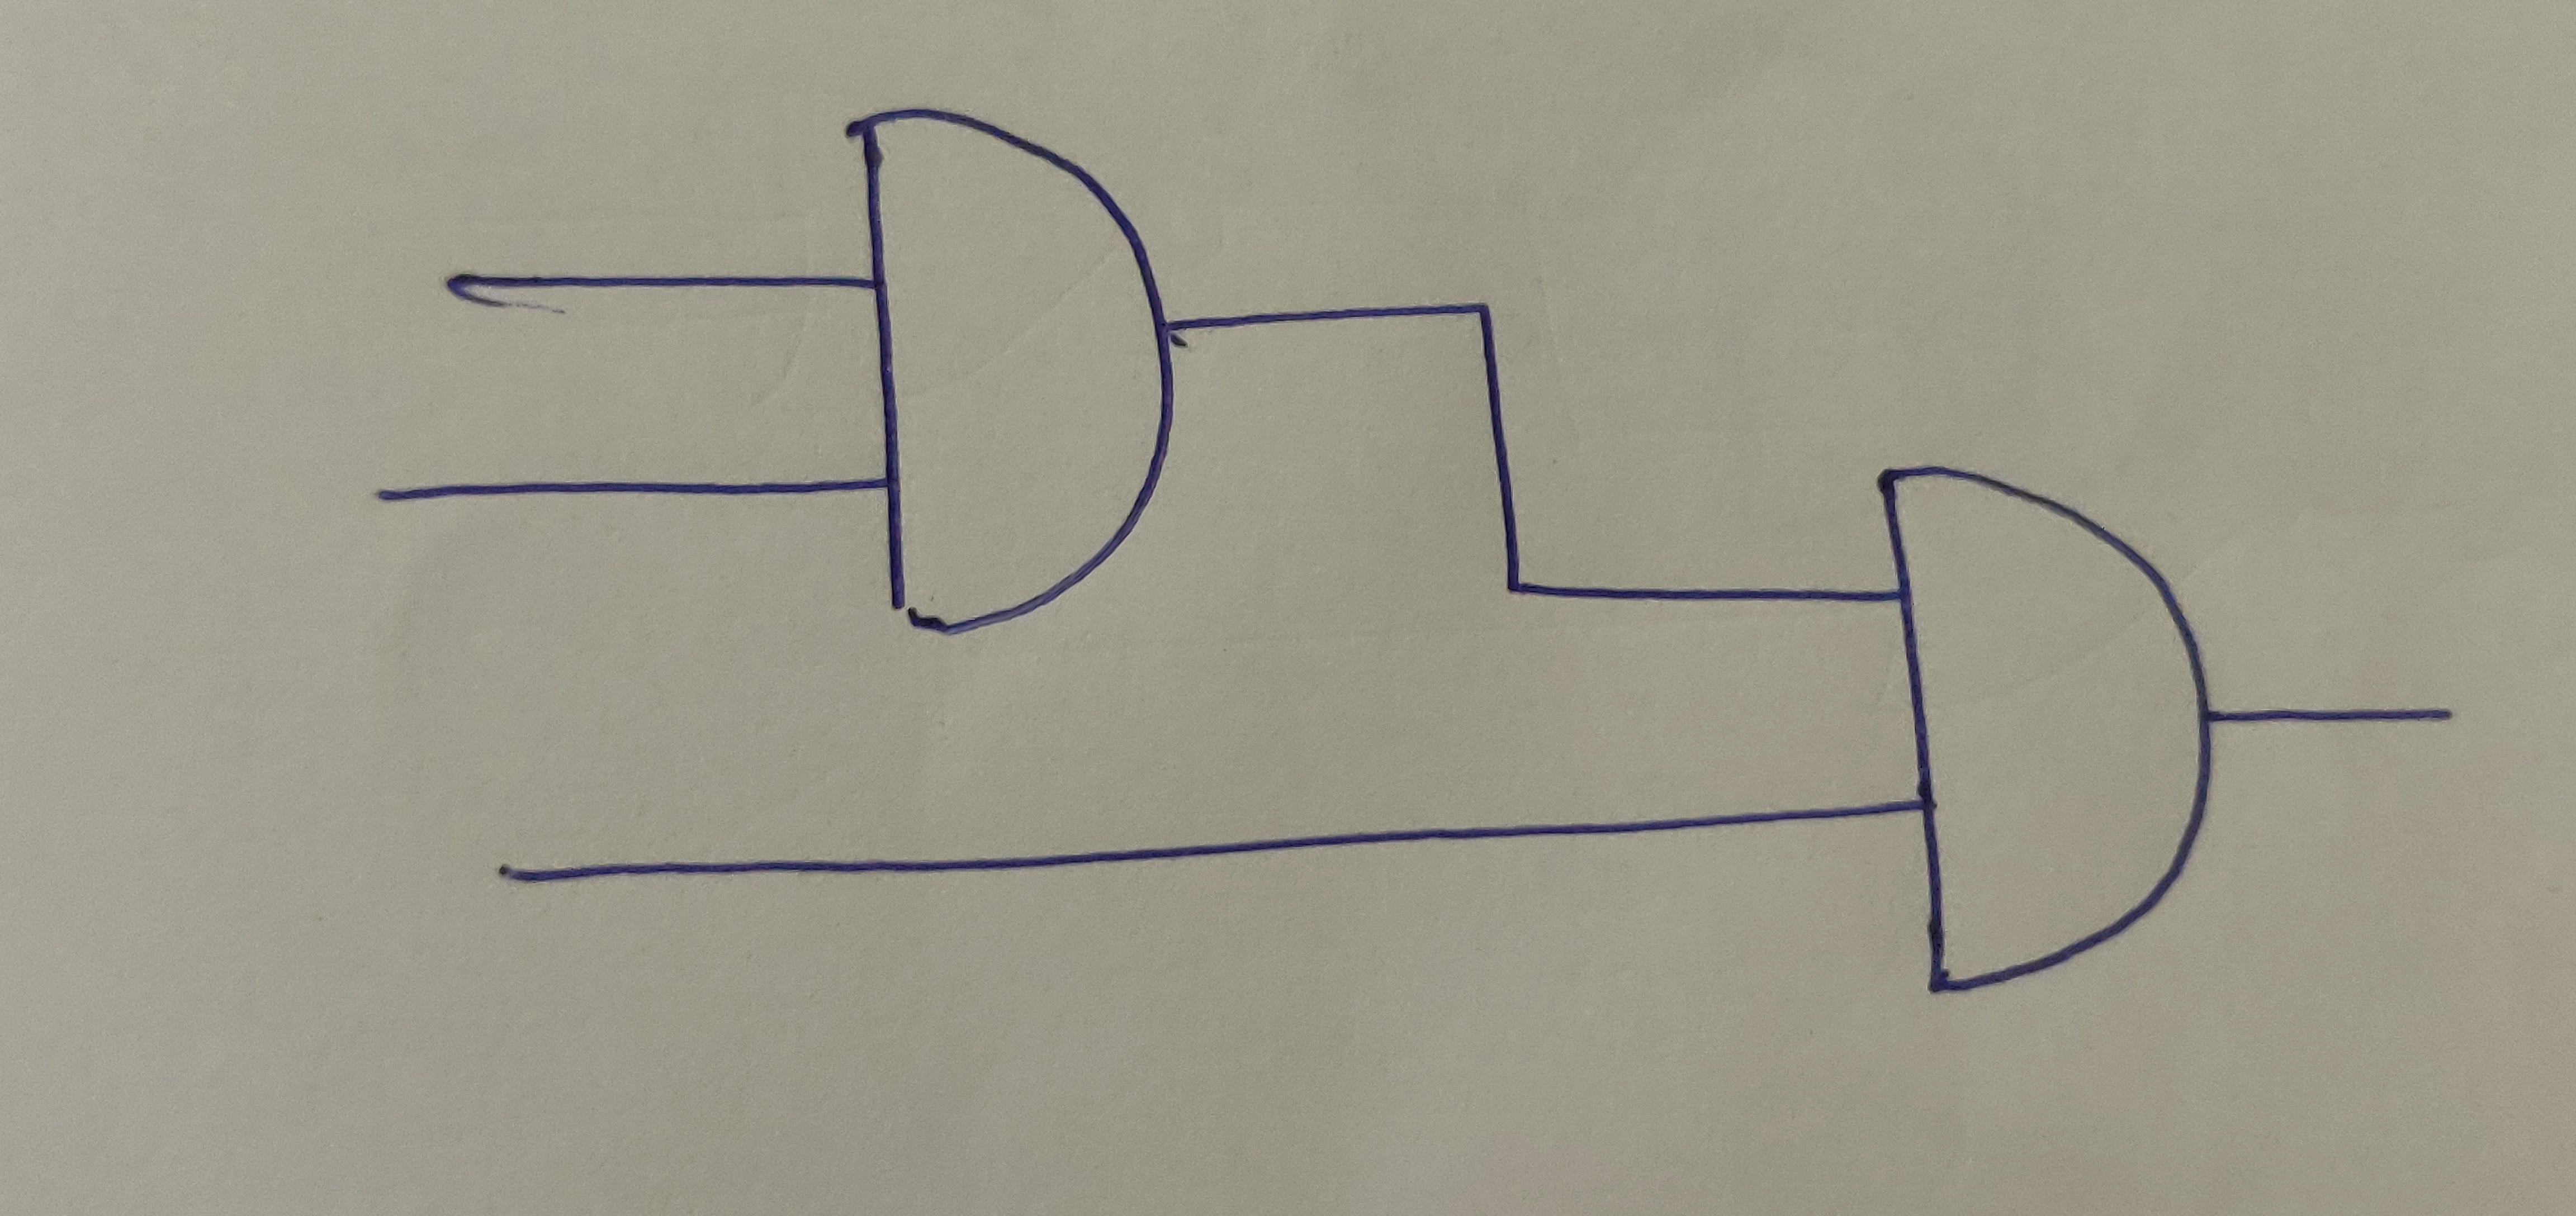and: (1871, 463, 2218, 994), (854, 107, 1181, 641)
